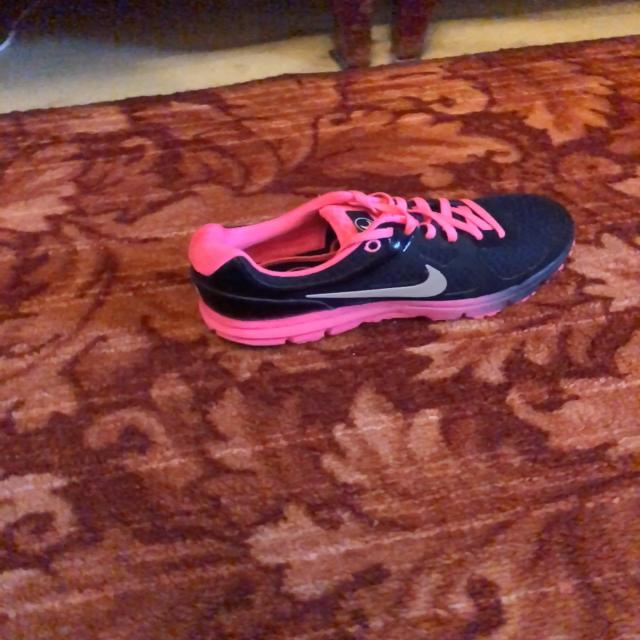shoe: (187, 190, 575, 350)
